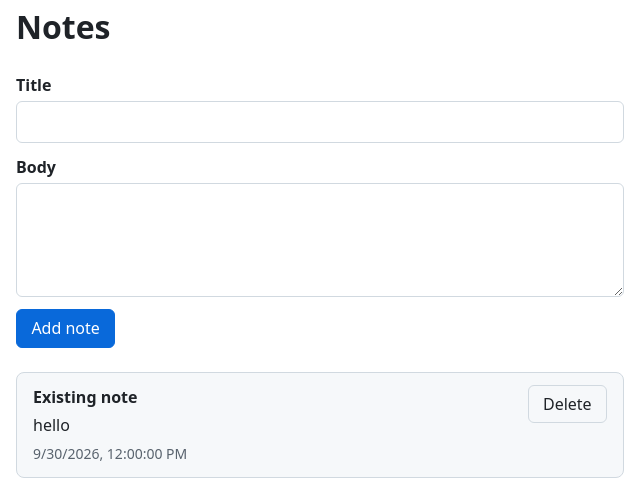
Test: App › deletes a note
Expected: the heading "Existing note" is shown, [33, 386, 138, 408]
Click the button with aria-label "Delete Existing note". click: (567, 404)
box: [528, 385, 607, 424]
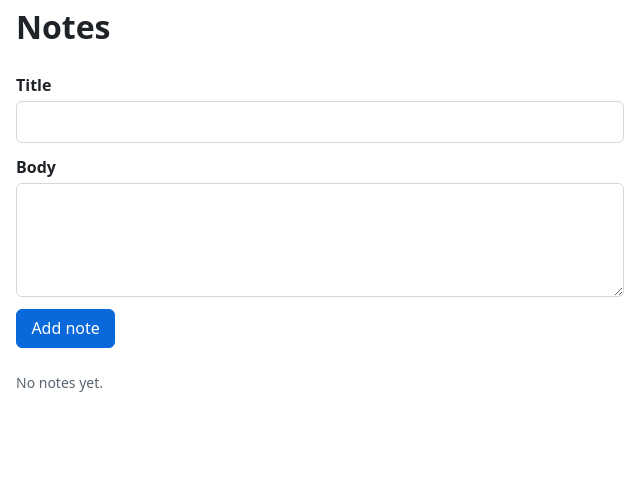
Expected: the heading "Existing note" is gone
Expected: the text "No notes yet." is shown, [16, 373, 103, 392]
